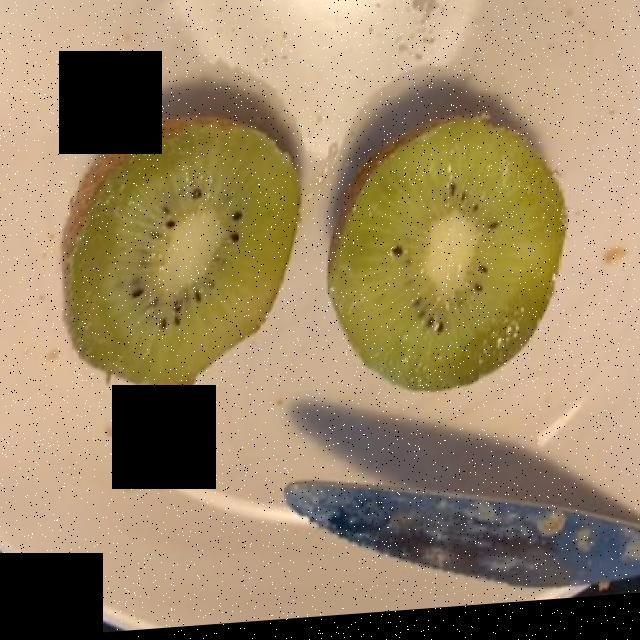kiwi: (54, 113, 576, 407)
